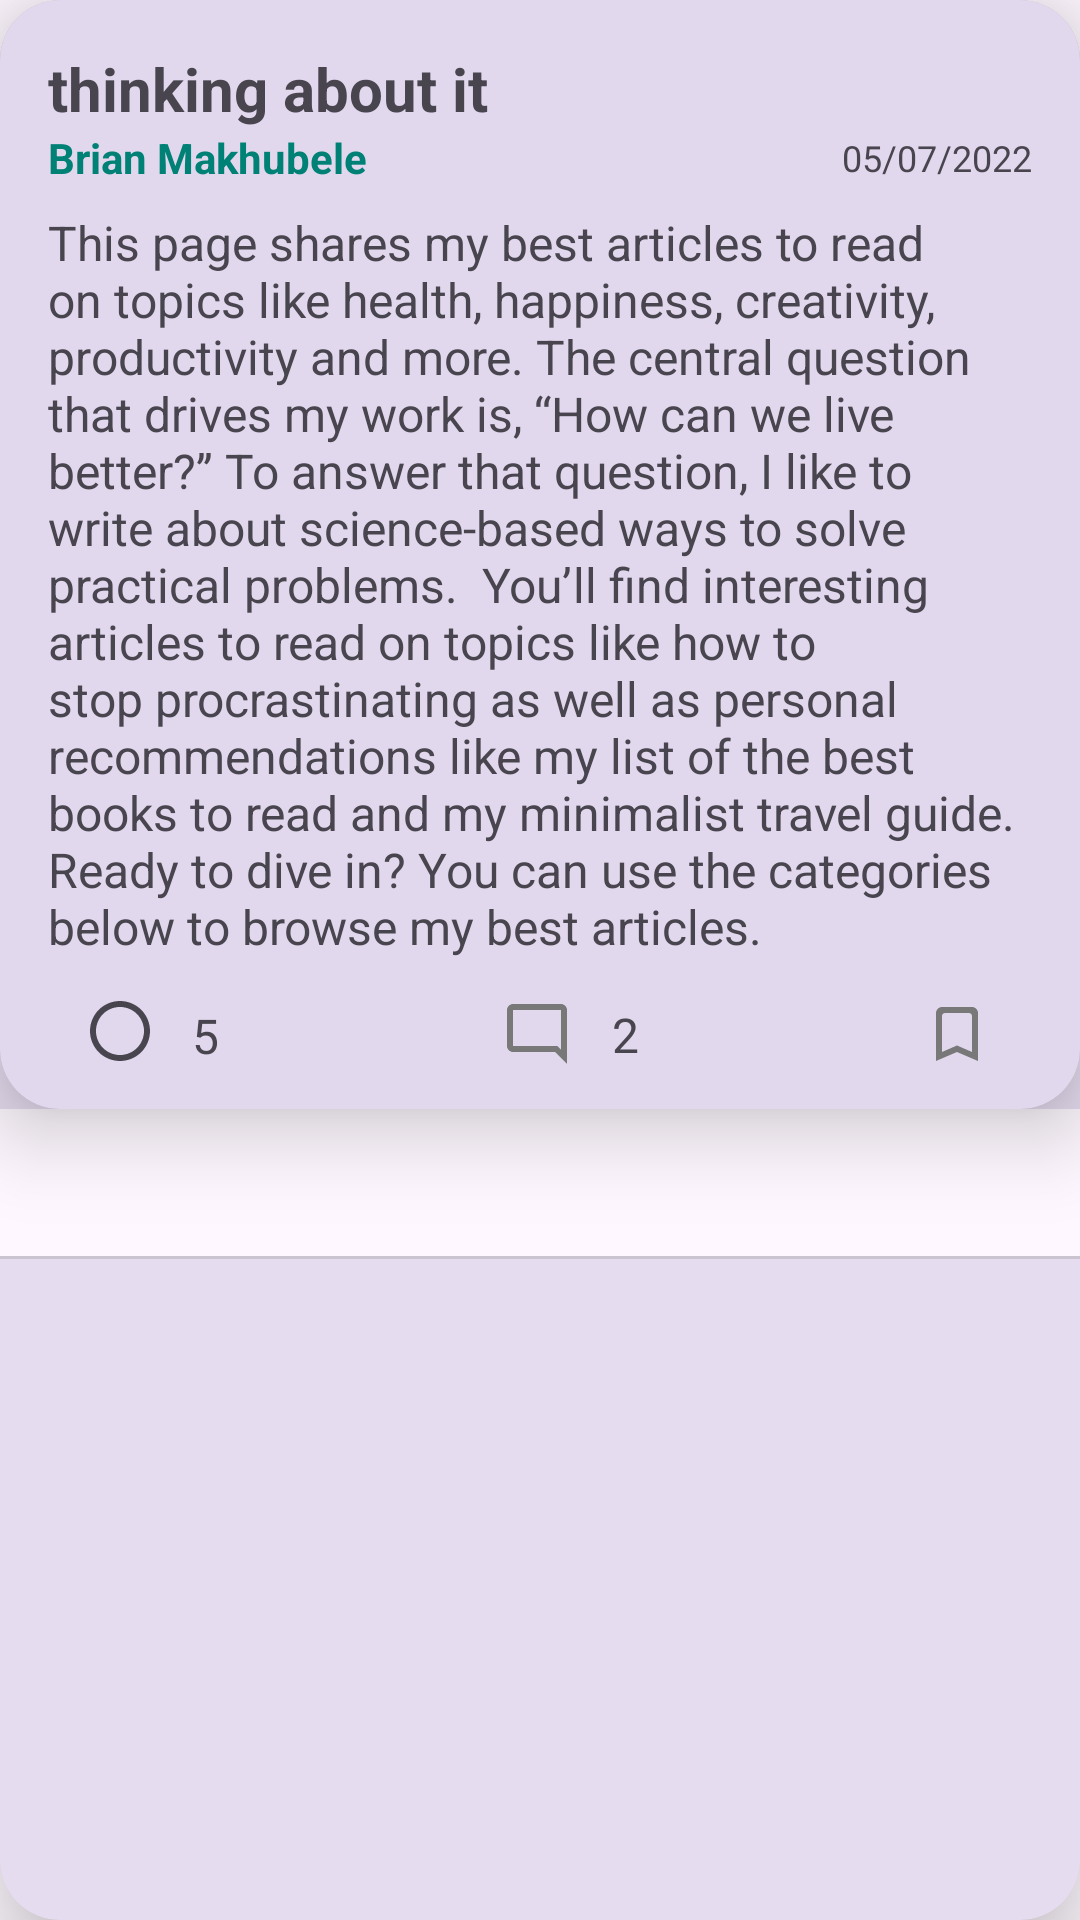

Named icons in this screenshot (1080x1920) and their centers, point (x, y):
comment: point (537, 1034)
unchecked bookmark: point (957, 1034)
